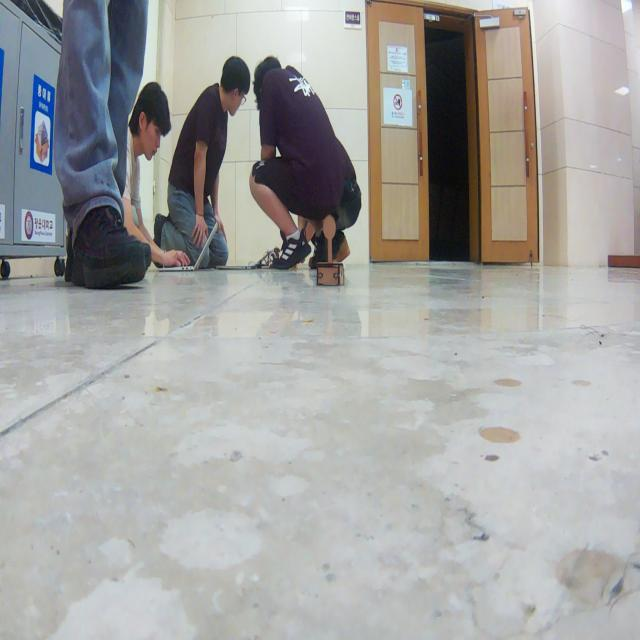target: (316, 213, 345, 287)
